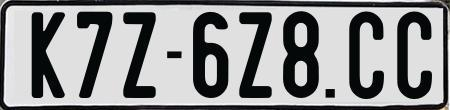6: (192, 9, 229, 100)
7: (75, 9, 115, 100)
8: (283, 11, 323, 104)
C: (347, 11, 385, 104), (395, 10, 430, 103)
K: (31, 11, 66, 98)
Z: (123, 12, 160, 101), (238, 10, 274, 101)
